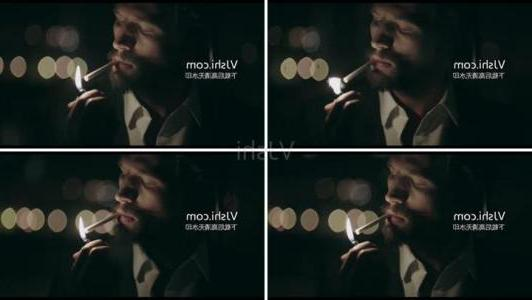fire: (64, 59, 93, 102), (70, 210, 94, 246), (322, 69, 347, 99), (340, 215, 361, 244)
